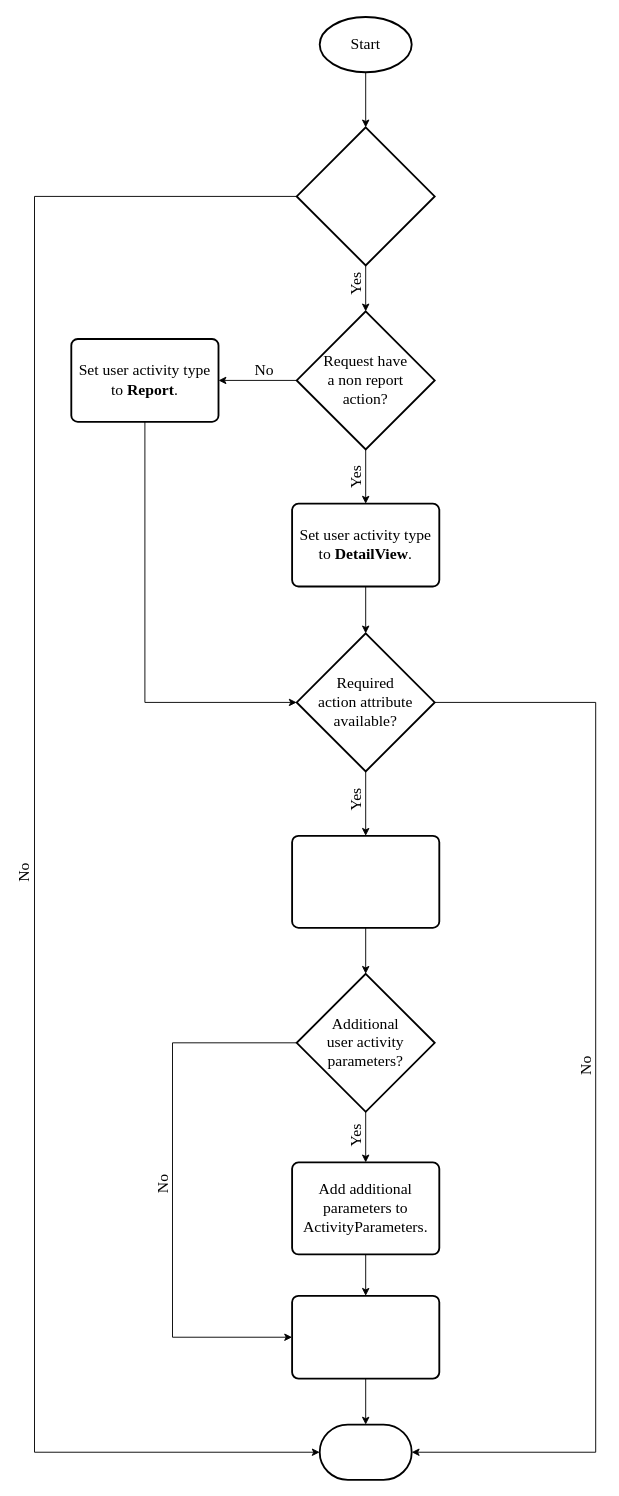
This 619x1496 diagram has some shape labels left out. The shapes that lost their labels are listed below. From the top down, each one's box as (x1, y1, x2, y2) in pixels, then its label:
(295, 126, 435, 266): Request have action parameter?
(291, 834, 440, 928): Add action parameter and required attribute to ActivityParameters.
(291, 1294, 440, 1379): Start ActivityTracker process ActivityParameters and actvity type.
(318, 1423, 412, 1480): End
